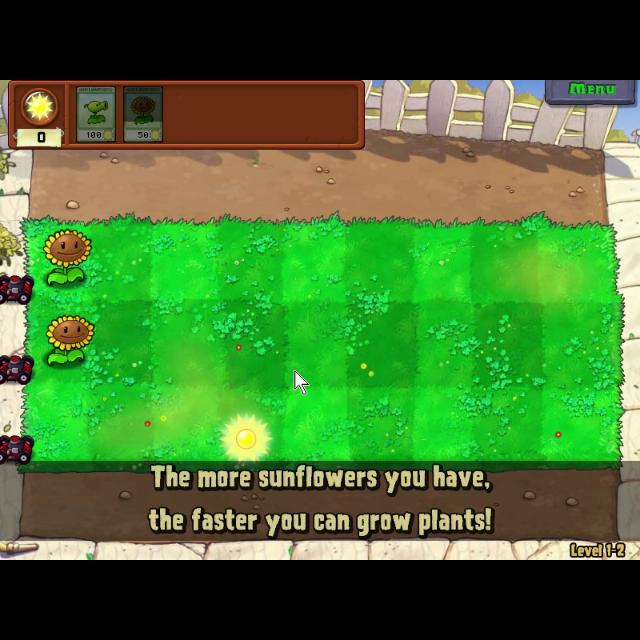Garden: (19, 213, 626, 473)
Menu Button: (545, 80, 637, 104)
Mower: (0, 272, 38, 306), (0, 432, 38, 466), (0, 350, 34, 386)
Peashooter: (74, 86, 118, 144)
Seed Panel: (5, 80, 368, 152)
Sun: (214, 408, 278, 472)
Sunflower: (123, 84, 165, 146)
Sunflower Seed: (45, 310, 97, 372), (41, 228, 94, 288)
